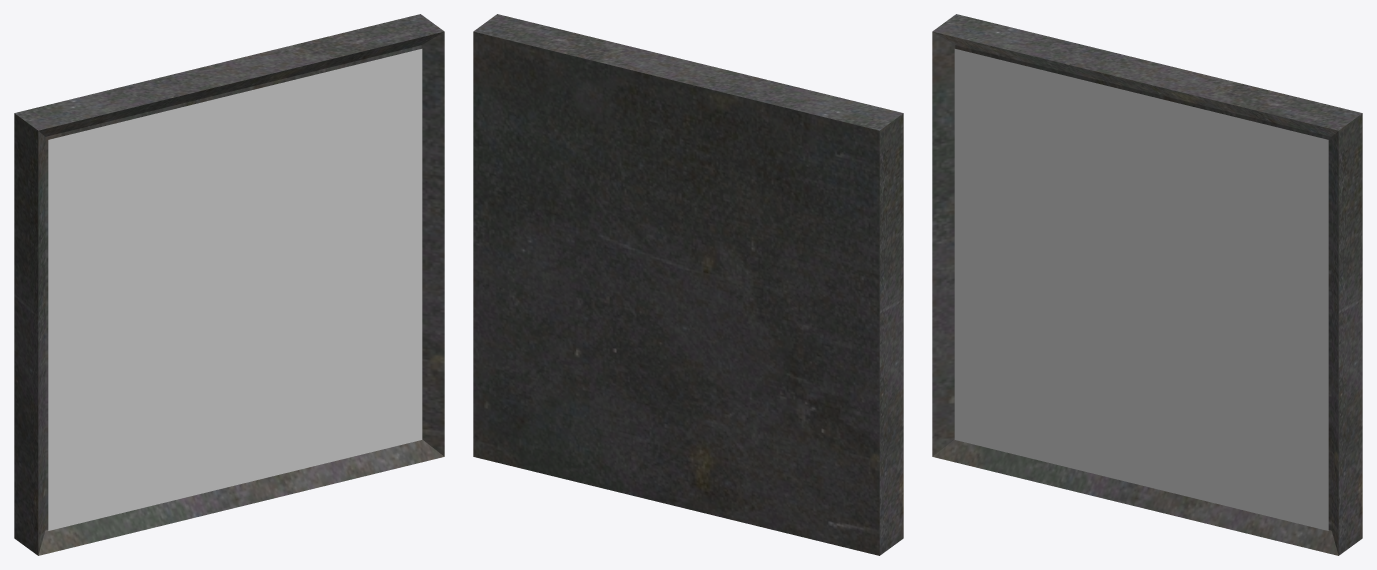
Rendered from call_button.fbx.
3 renders of one model, left to right at view 1: azimuth 30°, elevation 25°; view 2: azimuth 150°, elevation 25°; view 3: azimuth 330°, elevation 25°, orthographic.
Parts seen in each view (by area): view 1: Screen, CallButton; view 2: CallButton; view 3: Screen, CallButton.
Part boxes in pixels (left/top/right/bottom): Screen: left=48, top=49, right=422, bottom=530; CallButton: left=14, top=14, right=444, bottom=555; CallButton: left=473, top=14, right=903, bottom=555; Screen: left=954, top=49, right=1328, bottom=530; CallButton: left=932, top=14, right=1362, bottom=555.
Bounding box in the file's own units: 0.095 × 0.095 × 0.00972.
1 material, 1 textured.
